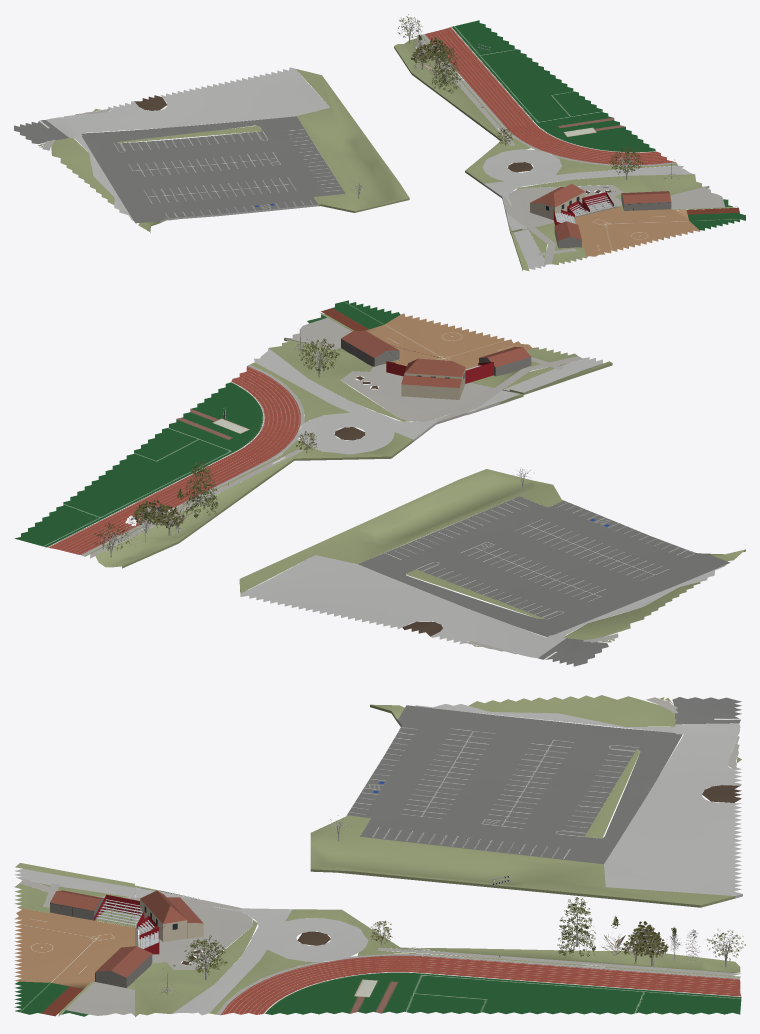
The picture shows the model from 3 angles, top to bottom: view 1: azimuth 30°, elevation 25°; view 2: azimuth 150°, elevation 25°; view 3: azimuth 270°, elevation 25°; orthographic projection. The views are drawn at different scales.
Parts seen in each view (by area): view 1: SW_ground_northeast_asphalt_-1_5_UNVERIFIED, SW_ground_village_asphalt_-1_5_UNVERIFIED, SW_ground_stadium_turf_-1_5, SW_ground_stadium_asphalt_-1_5_UNVERIFIED, SW_ground_northeast_concrete_-1_5_UNVERIFIED, SW_ground_northeast_gravel_-1_5_UNVERIFIED, SW_NE_field_dugout_1B_UNVERIFIED, SW_ground_northeast_turf_-1_5_UNVERIFIED, SW_St_trees_Tree_351_UNVERIFIEDspecies, SW_St_trees_Tree_254_UNVERIFIEDspecies, SW_St_trees_Tree_384_UNVERIFIEDspecies, SW_ground_stadium_mulch_-1_5_UNVERIFIED (+3 smaller); view 2: SW_ground_northeast_asphalt_-1_5_UNVERIFIED, SW_ground_village_asphalt_-1_5_UNVERIFIED, SW_ground_stadium_turf_-1_5, SW_ground_northeast_concrete_-1_5_UNVERIFIED, SW_ground_stadium_asphalt_-1_5_UNVERIFIED, SW_ground_northeast_gravel_-1_5_UNVERIFIED, SW_NE_field_dugout_1B_UNVERIFIED, SW_ground_northeast_turf_-1_5_UNVERIFIED, SW_St_trees_Tree_351_UNVERIFIEDspecies, SW_St_trees_Tree_254_UNVERIFIEDspecies, SW_ST_softball_clubhouse_N_UNVERIFIED, SW_St_trees_Tree_384_UNVERIFIEDspecies (+2 smaller); view 3: SW_ground_northeast_asphalt_-1_5_UNVERIFIED, SW_ground_village_asphalt_-1_5_UNVERIFIED, SW_ground_stadium_turf_-1_5, SW_ground_stadium_asphalt_-1_5_UNVERIFIED, SW_ground_northeast_concrete_-1_5_UNVERIFIED, SW_ground_northeast_gravel_-1_5_UNVERIFIED, SW_NE_field_dugout_1B_UNVERIFIED, SW_ground_northeast_turf_-1_5_UNVERIFIED, SW_St_trees_Tree_351_UNVERIFIEDspecies, SW_St_trees_Tree_254_UNVERIFIEDspecies, SW_St_trees_Tree_384_UNVERIFIEDspecies, SW_ground_stadium_mulch_-1_5_UNVERIFIED (+3 smaller).
Part boxes in pixels (x1,y1,x2,y2): SW_ground_northeast_asphalt_-1_5_UNVERIFIED: (38, 35, 737, 271); SW_ground_village_asphalt_-1_5_UNVERIFIED: (14, 116, 344, 223); SW_ground_stadium_turf_-1_5: (452, 20, 655, 152); SW_ground_stadium_asphalt_-1_5_UNVERIFIED: (425, 27, 675, 164); SW_ground_northeast_concrete_-1_5_UNVERIFIED: (42, 34, 725, 266); SW_ground_northeast_gravel_-1_5_UNVERIFIED: (575, 206, 700, 257); SW_NE_field_dugout_1B_UNVERIFIED: (530, 183, 671, 248); SW_ground_northeast_turf_-1_5_UNVERIFIED: (686, 199, 745, 230); SW_St_trees_Tree_351_UNVERIFIEDspecies: (351, 14, 643, 198); SW_St_trees_Tree_254_UNVERIFIEDspecies: (412, 46, 676, 178); SW_St_trees_Tree_384_UNVERIFIEDspecies: (411, 37, 449, 69); SW_ground_stadium_mulch_-1_5_UNVERIFIED: (134, 95, 611, 193); SW_ground_northeast_asphalt_-1_5_UNVERIFIED: (84, 312, 745, 658); SW_ground_village_asphalt_-1_5_UNVERIFIED: (358, 496, 730, 666); SW_ground_stadium_turf_-1_5: (14, 382, 263, 547); SW_ground_northeast_concrete_-1_5_UNVERIFIED: (81, 317, 618, 654); SW_ground_stadium_asphalt_-1_5_UNVERIFIED: (47, 366, 300, 554); SW_ground_northeast_gravel_-1_5_UNVERIFIED: (365, 313, 537, 369); SW_NE_field_dugout_1B_UNVERIFIED: (341, 331, 531, 388); SW_ground_northeast_turf_-1_5_UNVERIFIED: (307, 300, 400, 330); SW_St_trees_Tree_351_UNVERIFIEDspecies: (94, 338, 530, 557); SW_St_trees_Tree_254_UNVERIFIEDspecies: (172, 329, 305, 533); SW_ST_softball_clubhouse_N_UNVERIFIED: (401, 368, 465, 399); SW_St_trees_Tree_384_UNVERIFIEDspecies: (132, 500, 183, 535); SW_ground_northeast_asphalt_-1_5_UNVERIFIED: (14, 695, 742, 1017); SW_ground_village_asphalt_-1_5_UNVERIFIED: (347, 697, 741, 864); SW_ground_stadium_turf_-1_5: (265, 972, 741, 1014); SW_ground_stadium_asphalt_-1_5_UNVERIFIED: (221, 955, 741, 1014); SW_ground_northeast_concrete_-1_5_UNVERIFIED: (17, 697, 741, 1015); SW_ground_northeast_gravel_-1_5_UNVERIFIED: (14, 907, 138, 988); SW_NE_field_dugout_1B_UNVERIFIED: (50, 890, 203, 987); SW_ground_northeast_turf_-1_5_UNVERIFIED: (14, 981, 88, 1016); SW_St_trees_Tree_351_UNVERIFIEDspecies: (184, 815, 745, 980); SW_St_trees_Tree_254_UNVERIFIEDspecies: (160, 897, 595, 996); SW_St_trees_Tree_384_UNVERIFIEDspecies: (621, 921, 668, 966); SW_ground_stadium_mulch_-1_5_UNVERIFIED: (181, 785, 741, 964).
Bounding box in the file's own units: 162 × 22.64 × 163.
42 materials, 15 textured.
